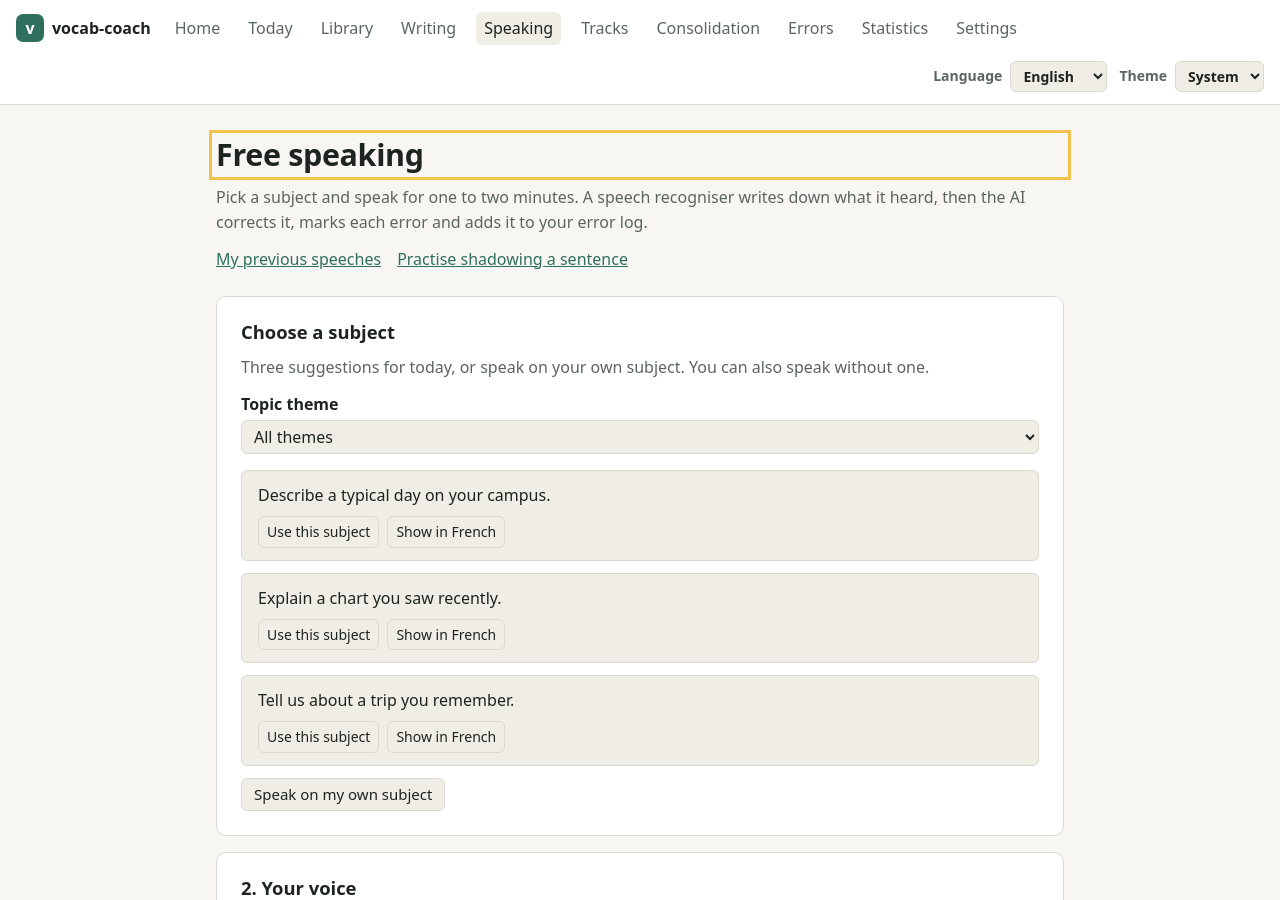
Free speaking: a new take › sends the exact request, then corrects once at /speaking/9 (history replaced)
Click the button "Use this subject" below "Describe a typical day on your campus.". click: {"x": 319, "y": 532}
box: [258, 516, 379, 548]
(page scrolled)
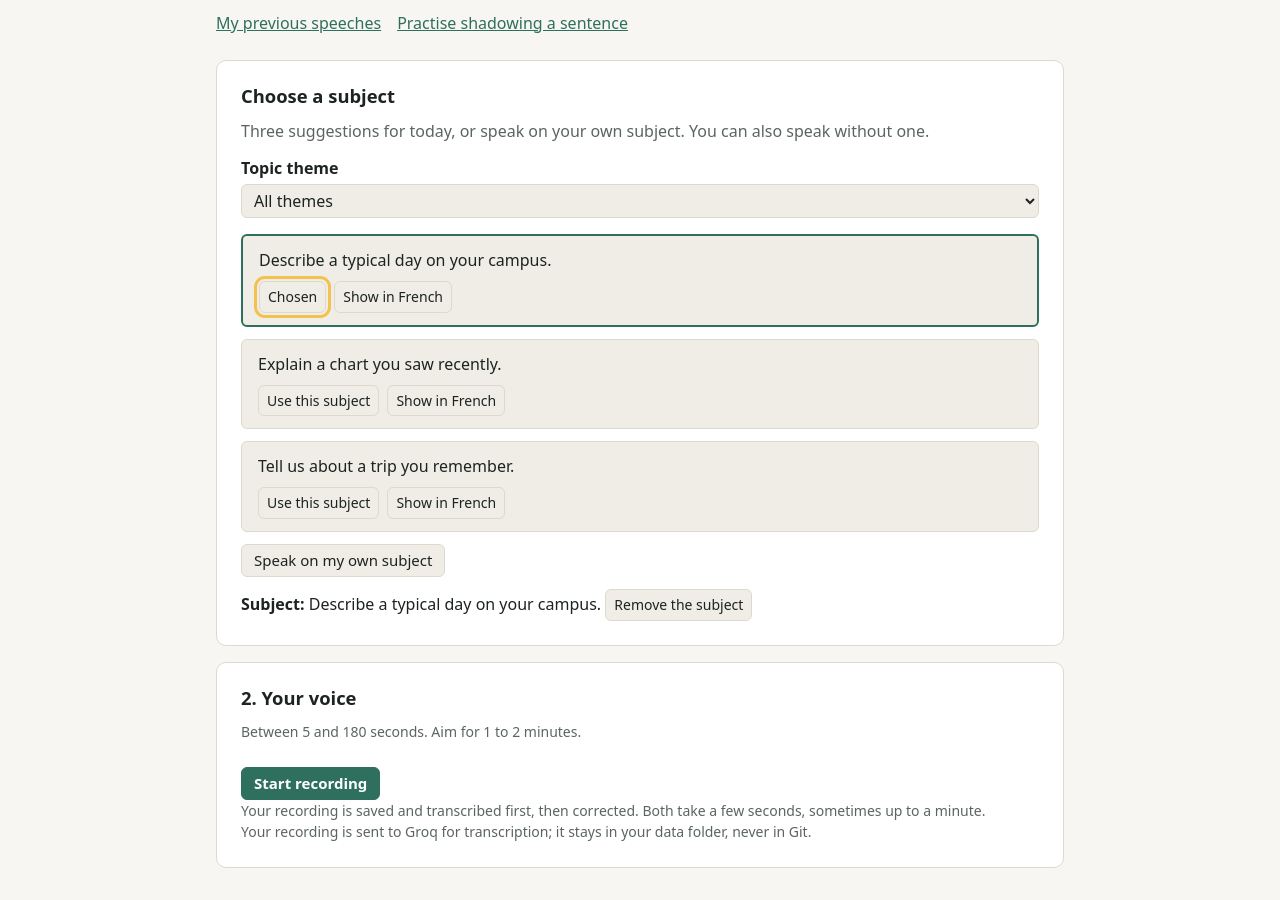
Click the button "Start recording". click: {"x": 311, "y": 783}
box: [241, 766, 380, 800]
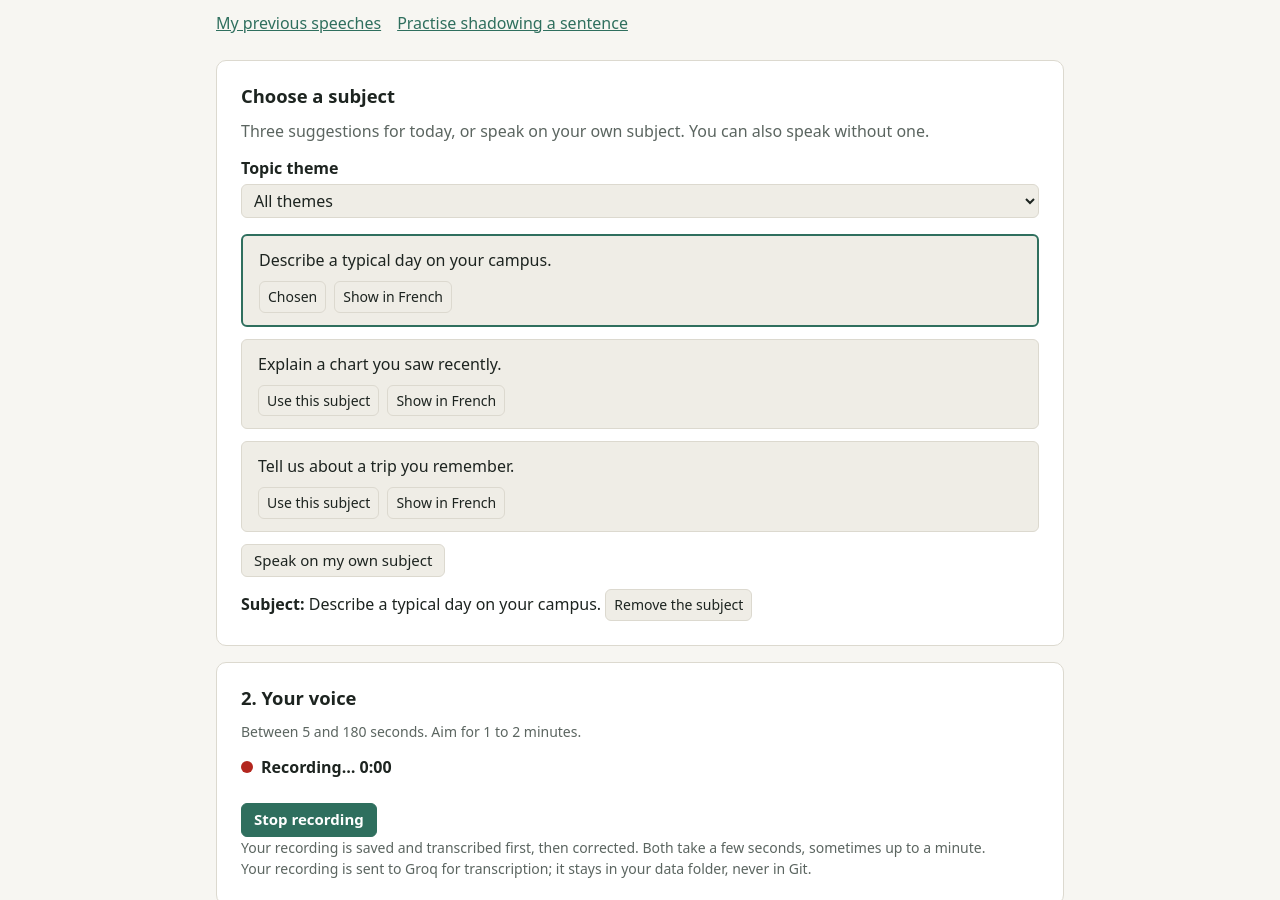
Click the button "Stop recording". click: {"x": 309, "y": 820}
box: [241, 803, 377, 837]
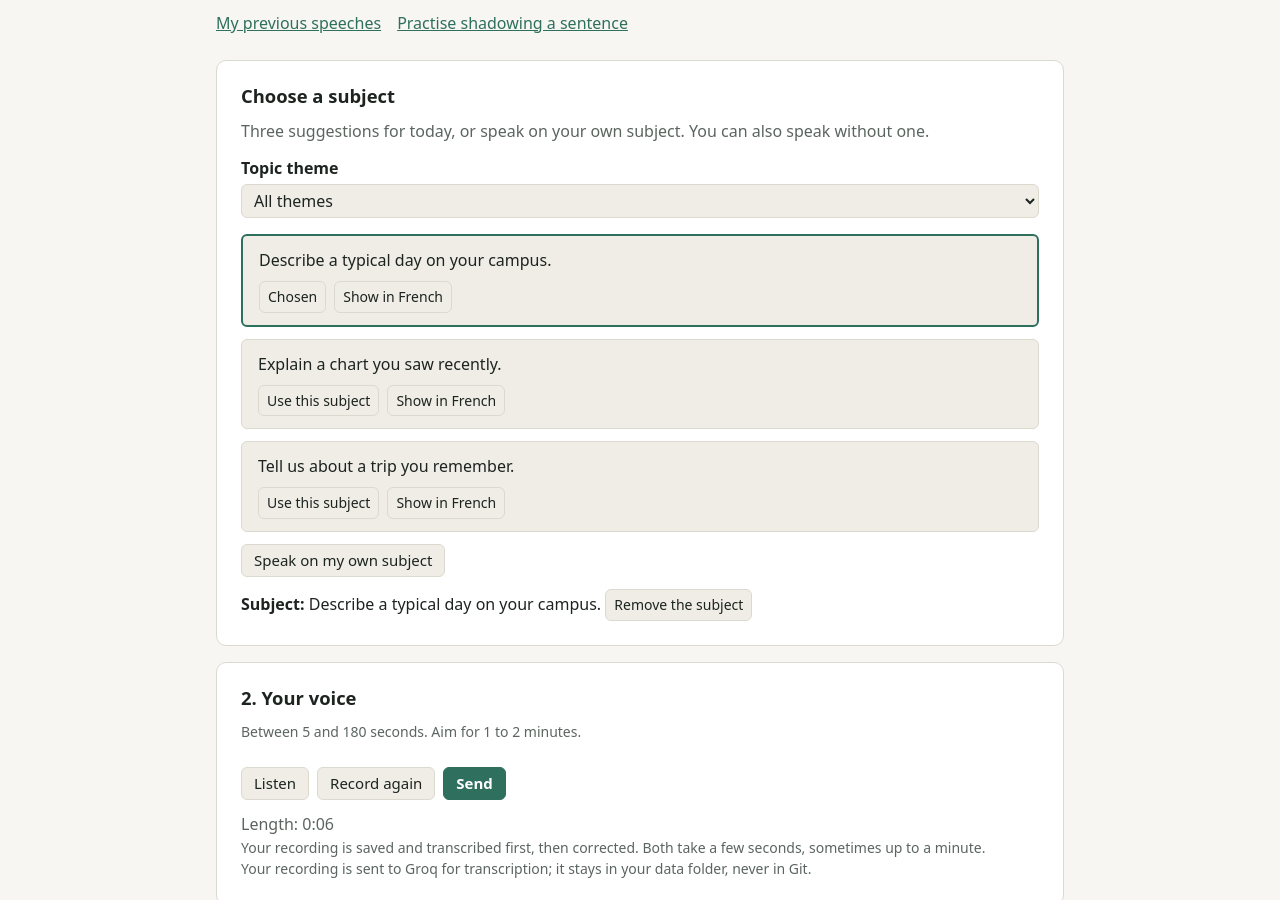
Now the button "Send" is shown
Click the button "Send". click: {"x": 475, "y": 783}
box: [443, 766, 506, 800]
(page scrolled)
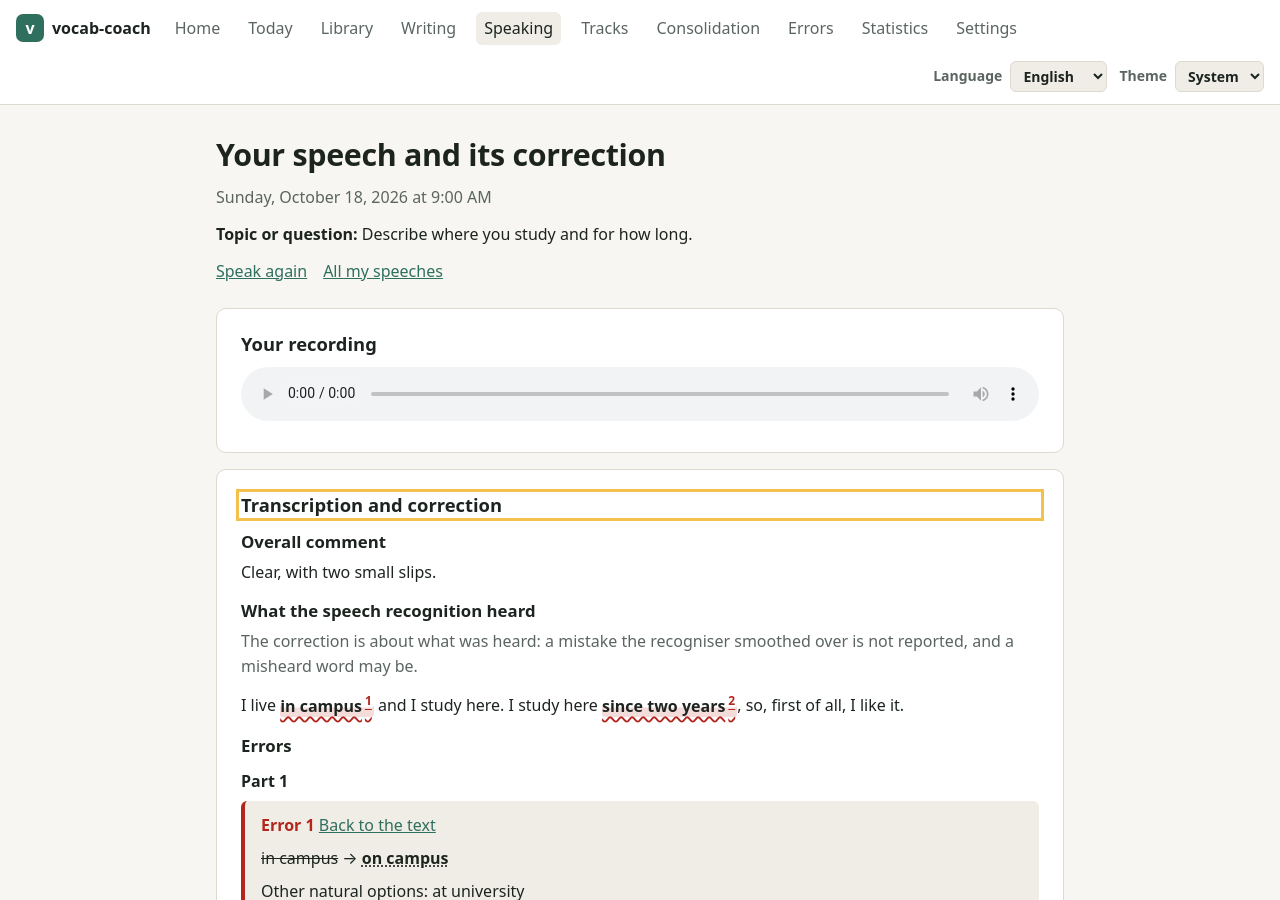
Now the heading "What the speech recognition heard" is shown, box [241, 599, 536, 622]
